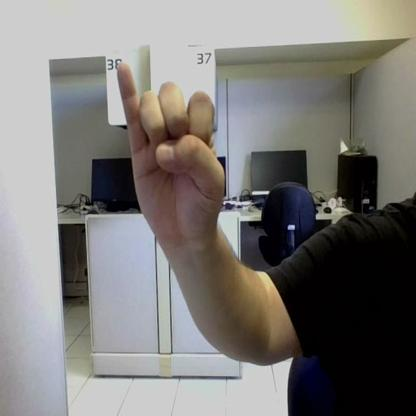I: (117, 64, 224, 240)
